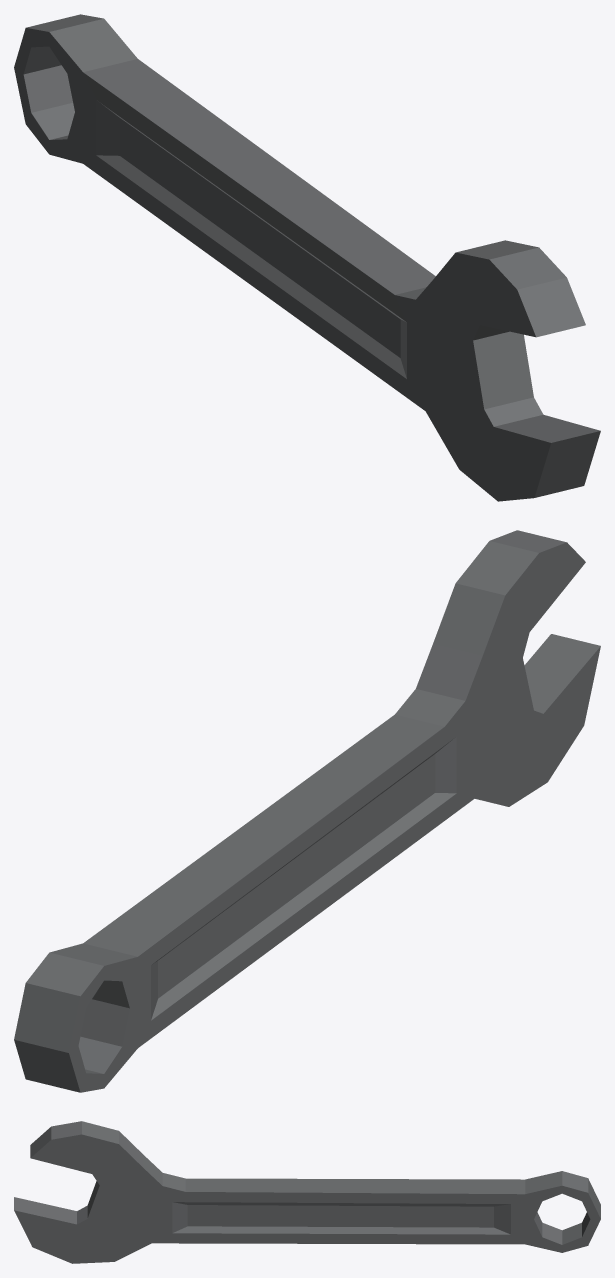
File: SM_Item_Wrench_02.glb
The picture shows the model from 3 angles, top to bottom: view 1: azimuth 30°, elevation 25°; view 2: azimuth 150°, elevation 25°; view 3: azimuth 270°, elevation 25°; orthographic projection. The views are drawn at different scales.
Visible parts, largest first — view 1: SM_Item_Wrench_02; view 2: SM_Item_Wrench_02; view 3: SM_Item_Wrench_02.
Part boxes in pixels (box(x1,y1,x2,y2)): SM_Item_Wrench_02: box(14, 14, 600, 501); SM_Item_Wrench_02: box(14, 530, 600, 1092); SM_Item_Wrench_02: box(14, 1121, 600, 1263).
Size of the model in its own units: 0.0235 by 0.0963 by 0.3958.
1 material, 1 textured.
